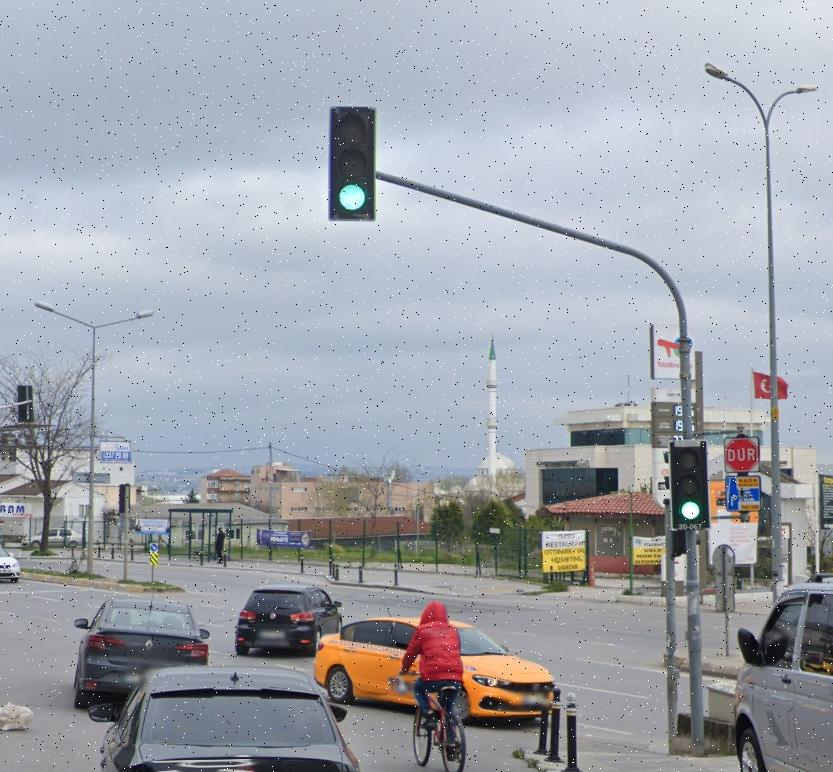greenlight: (333, 106, 377, 220), (674, 441, 703, 533)
stop: (724, 436, 759, 476)
